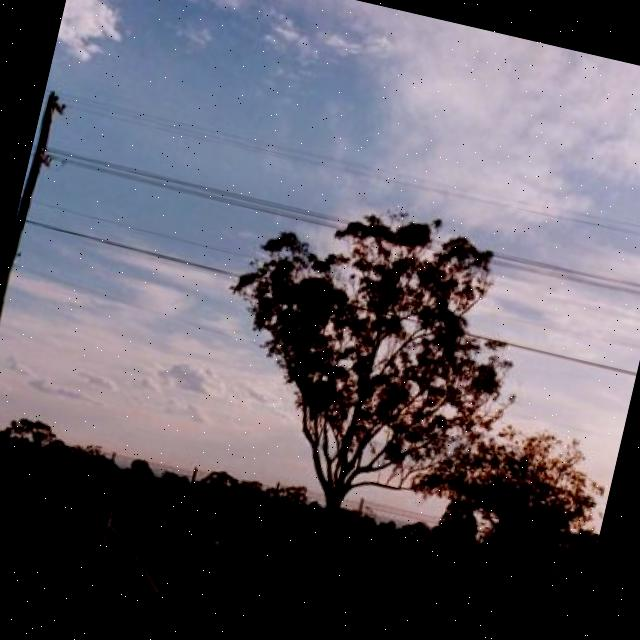Cs: (126, 1, 640, 239)
